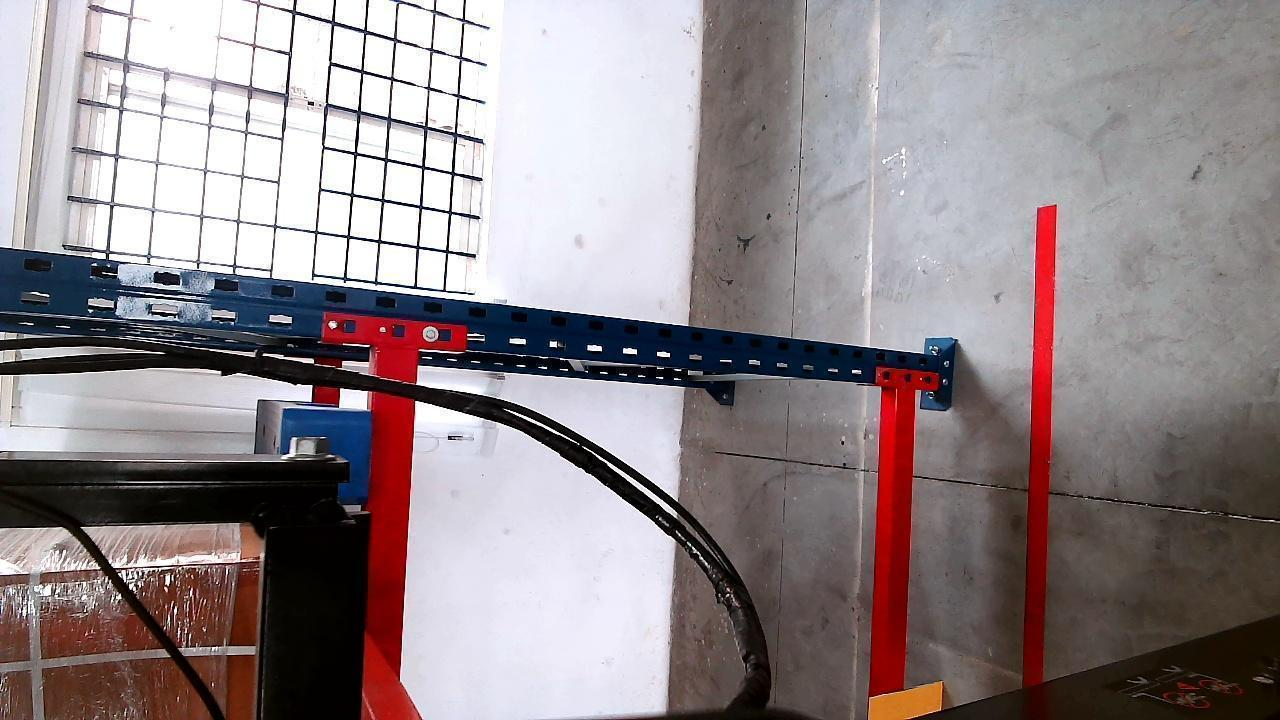red_line: (1023, 212, 1058, 686)
yellow_line: (13, 0, 43, 254)
